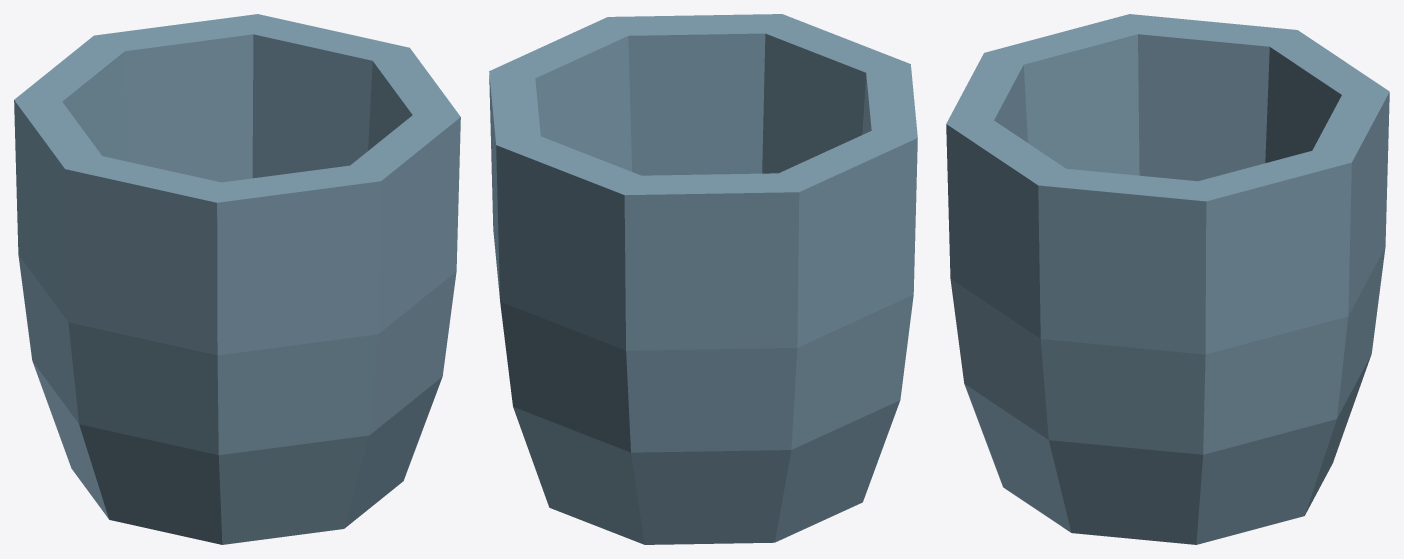
The model's file is Pot_3.fbx.
3 renders of one model, left to right at view 1: azimuth 30°, elevation 25°; view 2: azimuth 150°, elevation 25°; view 3: azimuth 270°, elevation 25°, orthographic.
Parts seen in each view (by area): view 1: Pot_3; view 2: Pot_3; view 3: Pot_3.
Boxes of the visible parts, left/top/right/bottom form: Pot_3: left=14, top=14, right=460, bottom=544; Pot_3: left=489, top=14, right=917, bottom=544; Pot_3: left=946, top=14, right=1389, bottom=544.
Bounding box in the file's own units: 20.26 × 20.26 × 18.53.
